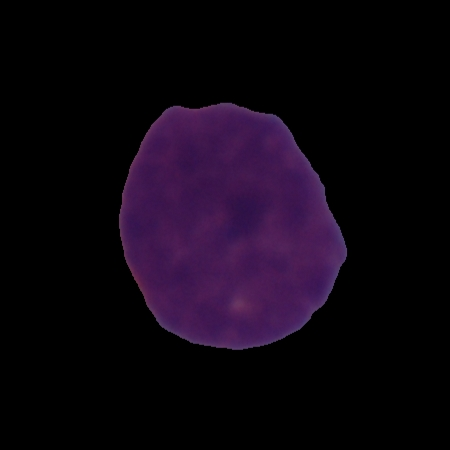ALL: (115, 98, 350, 354)
